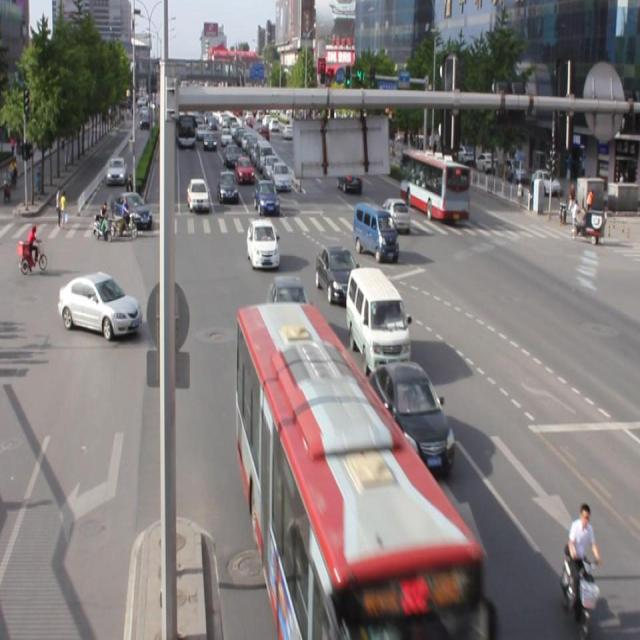car: (368, 358, 454, 474), (59, 272, 142, 336), (316, 244, 362, 304), (268, 274, 308, 327), (246, 217, 279, 265)
truck: (346, 264, 410, 372), (353, 201, 398, 259)
van: (237, 300, 481, 640)
